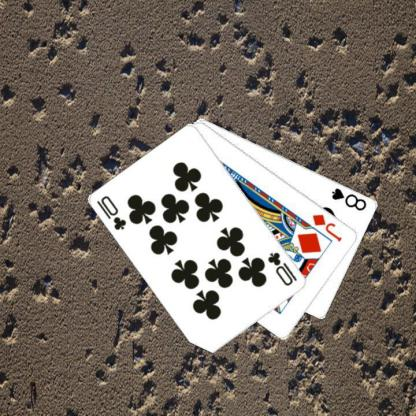10C: (94, 193, 128, 232), (265, 250, 299, 288)
8S: (329, 185, 368, 212)
JD: (310, 212, 344, 244)
